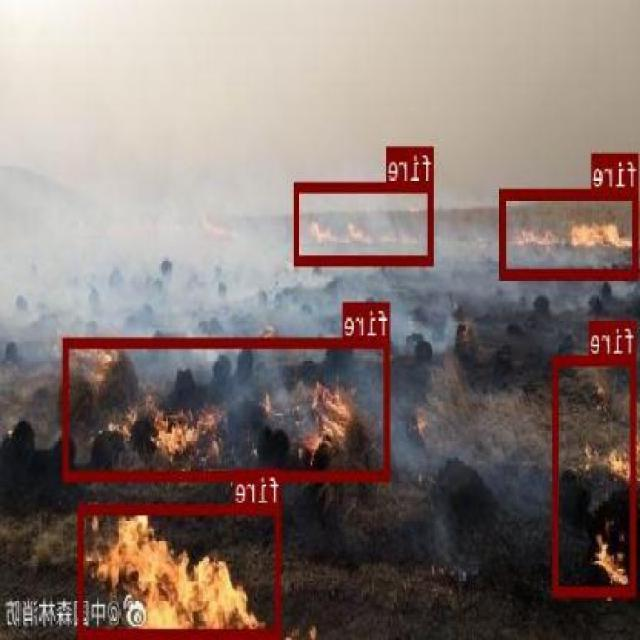Fire: (64, 337, 392, 480), (81, 502, 282, 636), (555, 354, 637, 594), (502, 187, 640, 276), (296, 181, 435, 264)
